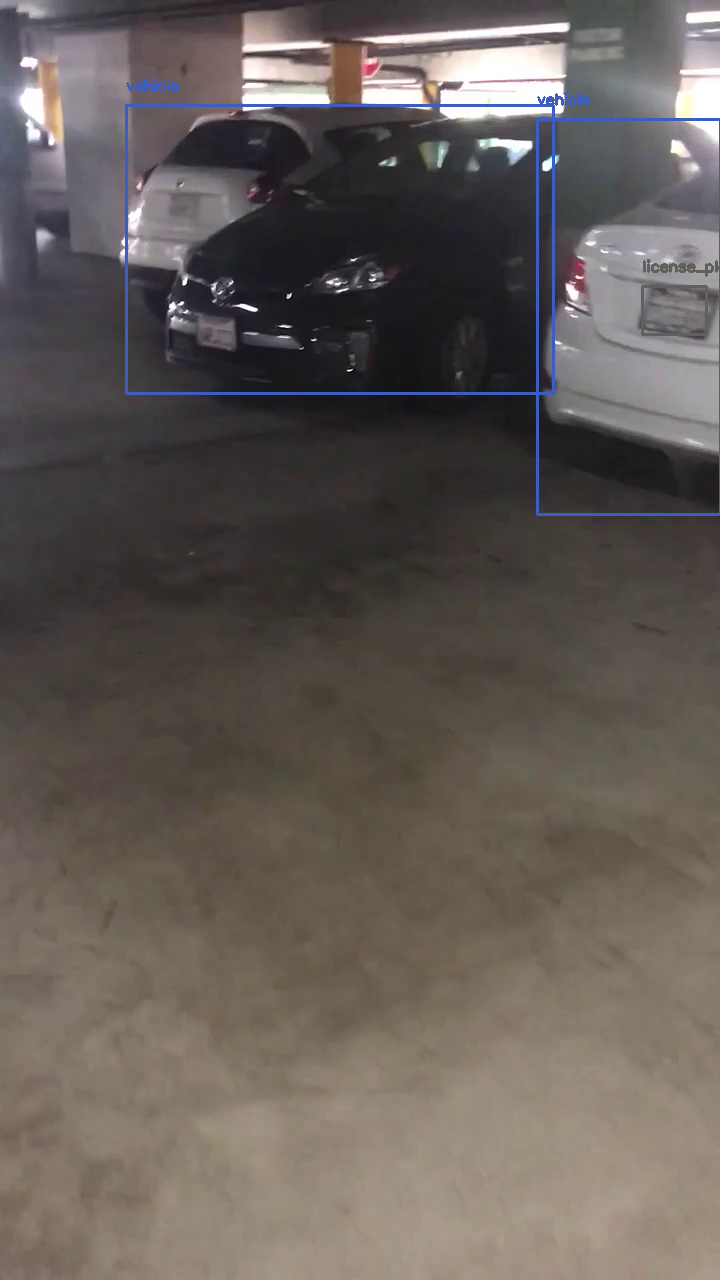license_plate: (642, 286, 706, 334)
vehicle: (126, 105, 553, 393), (537, 119, 720, 514)
